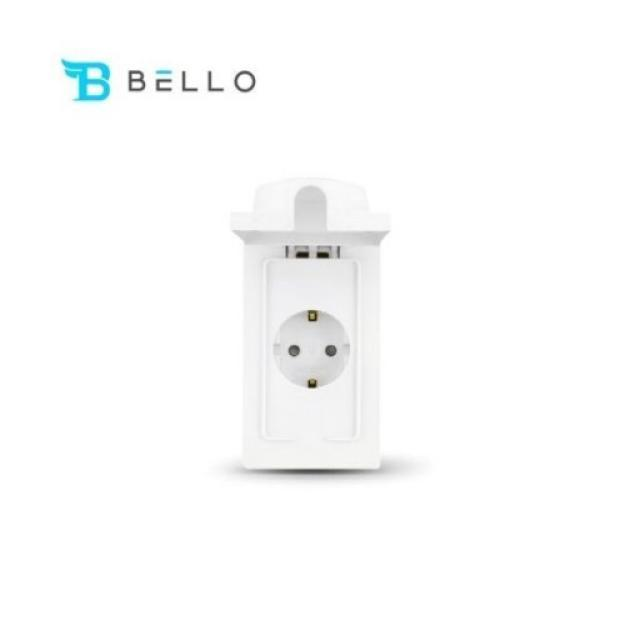typeb: (158, 165, 521, 543)
